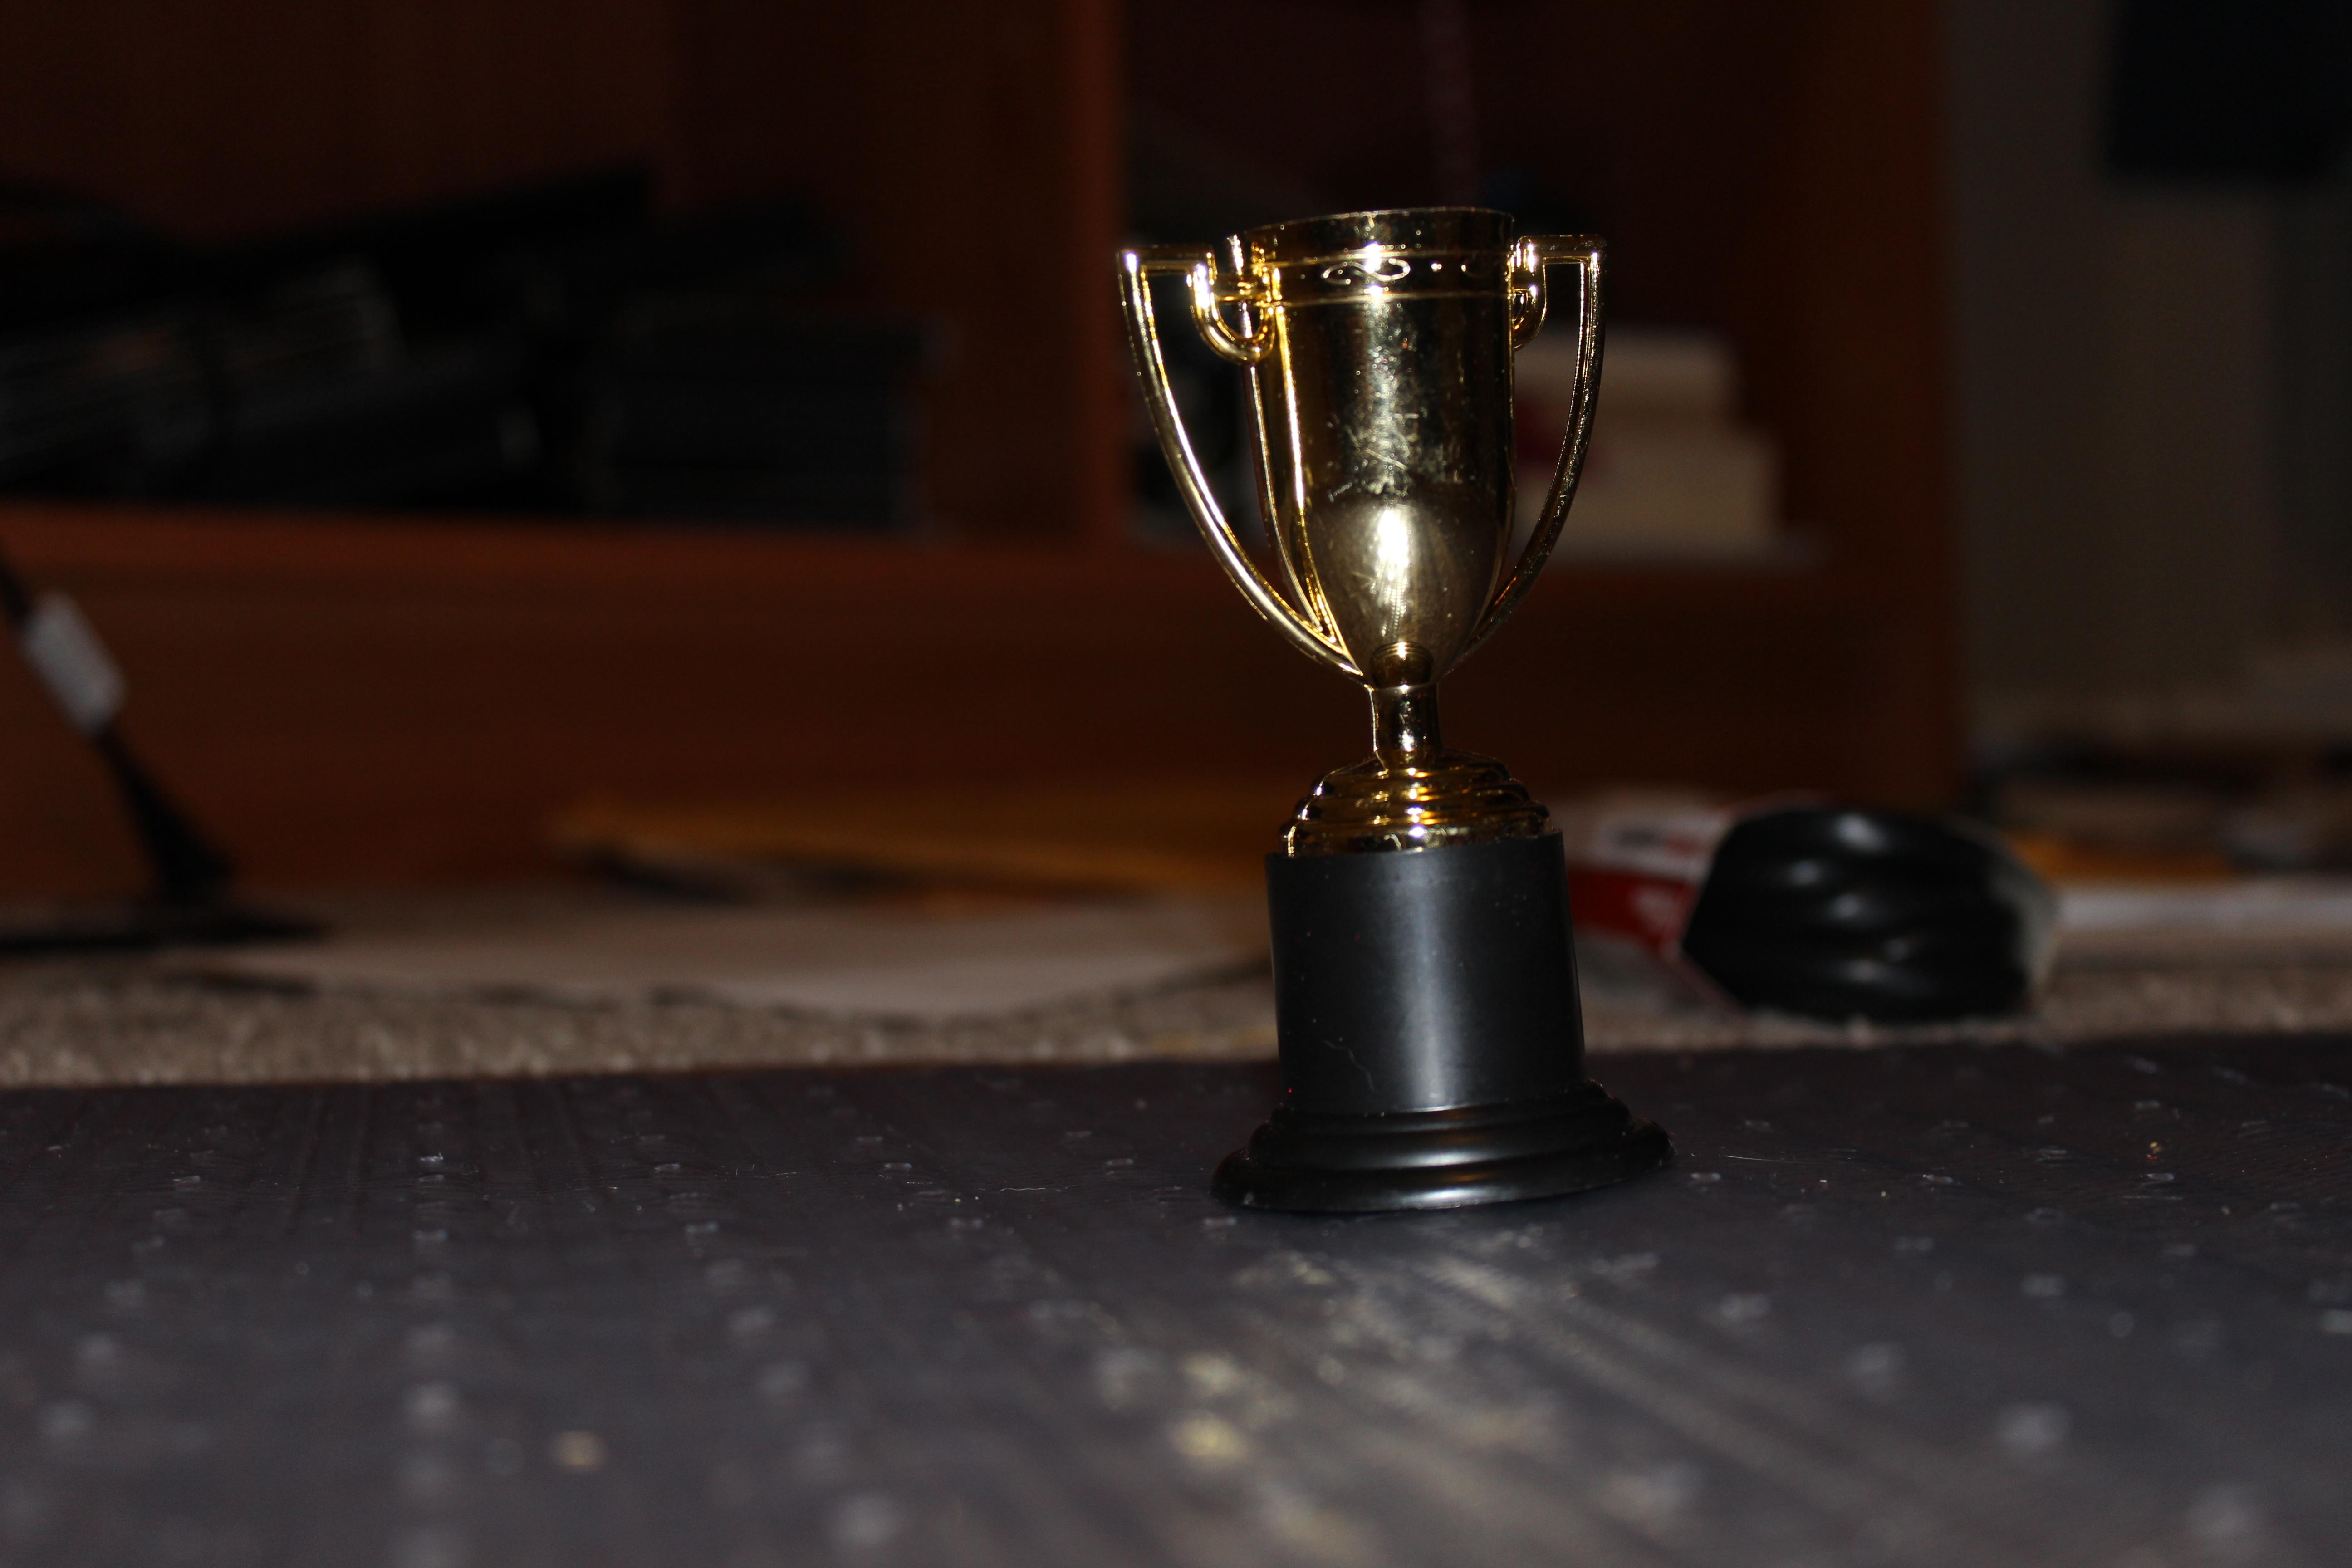trophy: (1060, 184, 1743, 1270)
